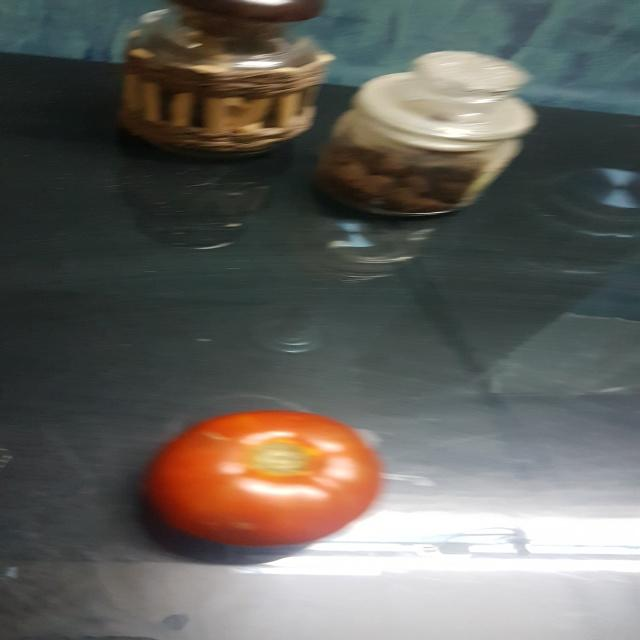tomato: (140, 399, 385, 560)
